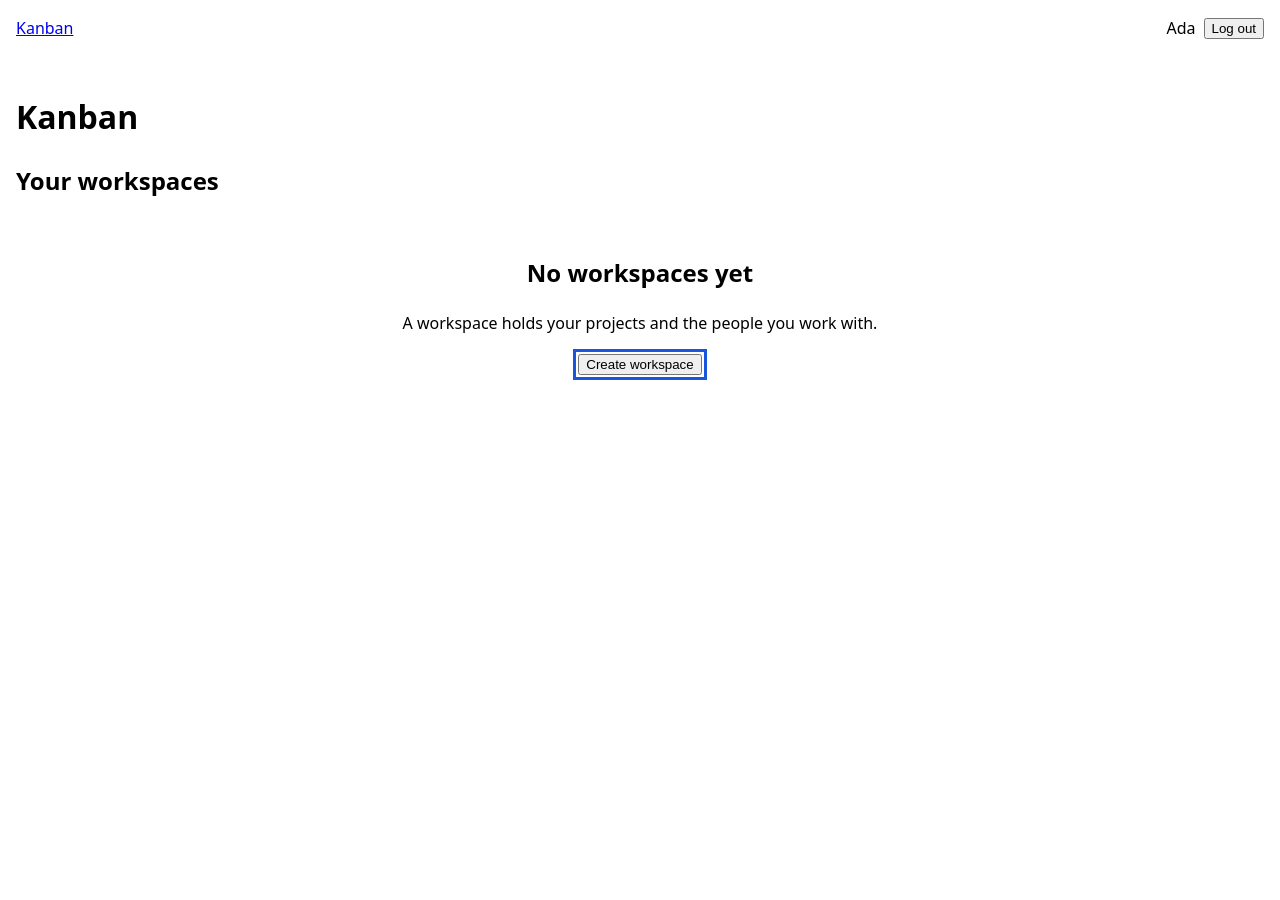
Test: home page › opens the dialog with Enter, shows a validation error and closes with Escape
Press Enter
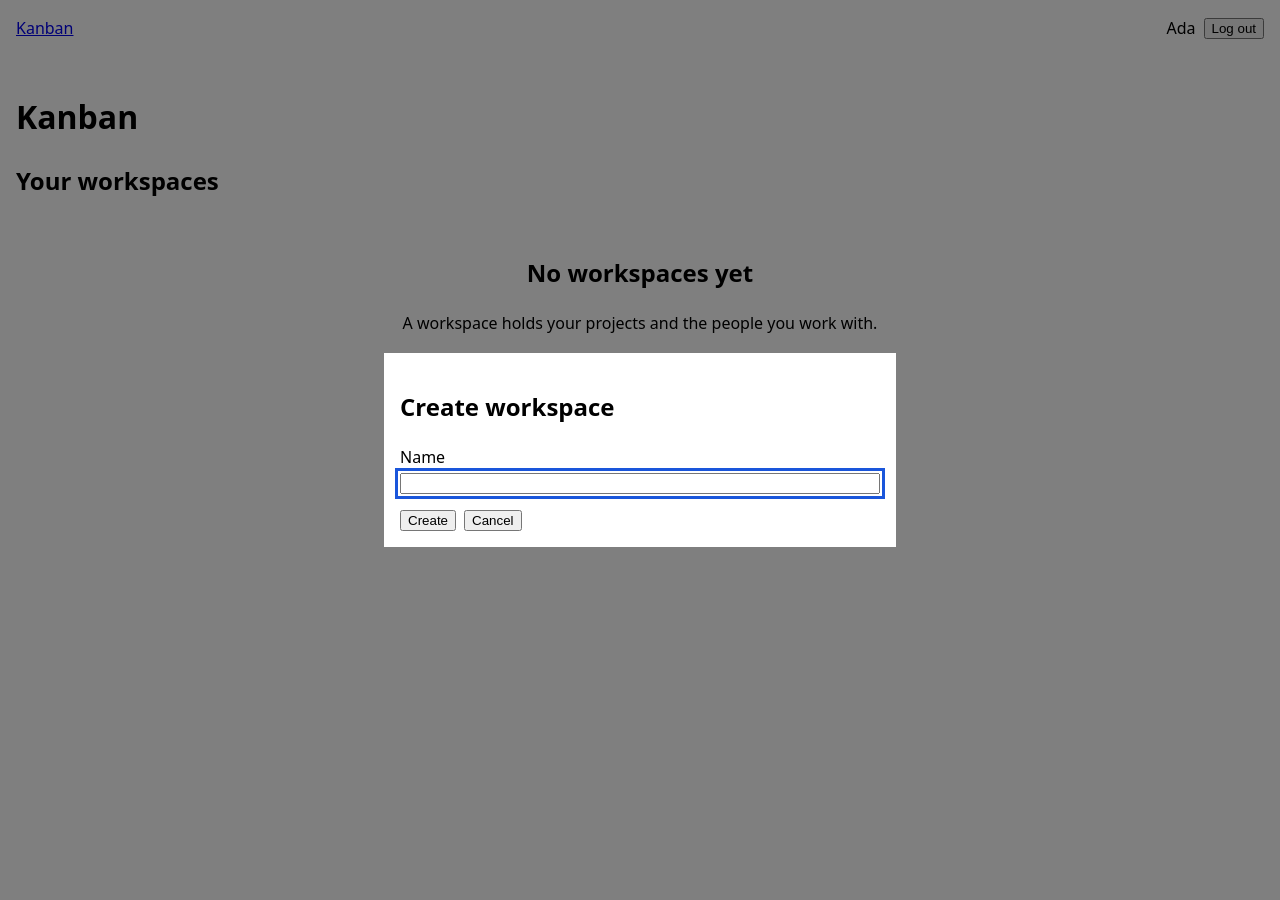
Click the button "Create". click: (428, 520)
box: [400,510,456,531]
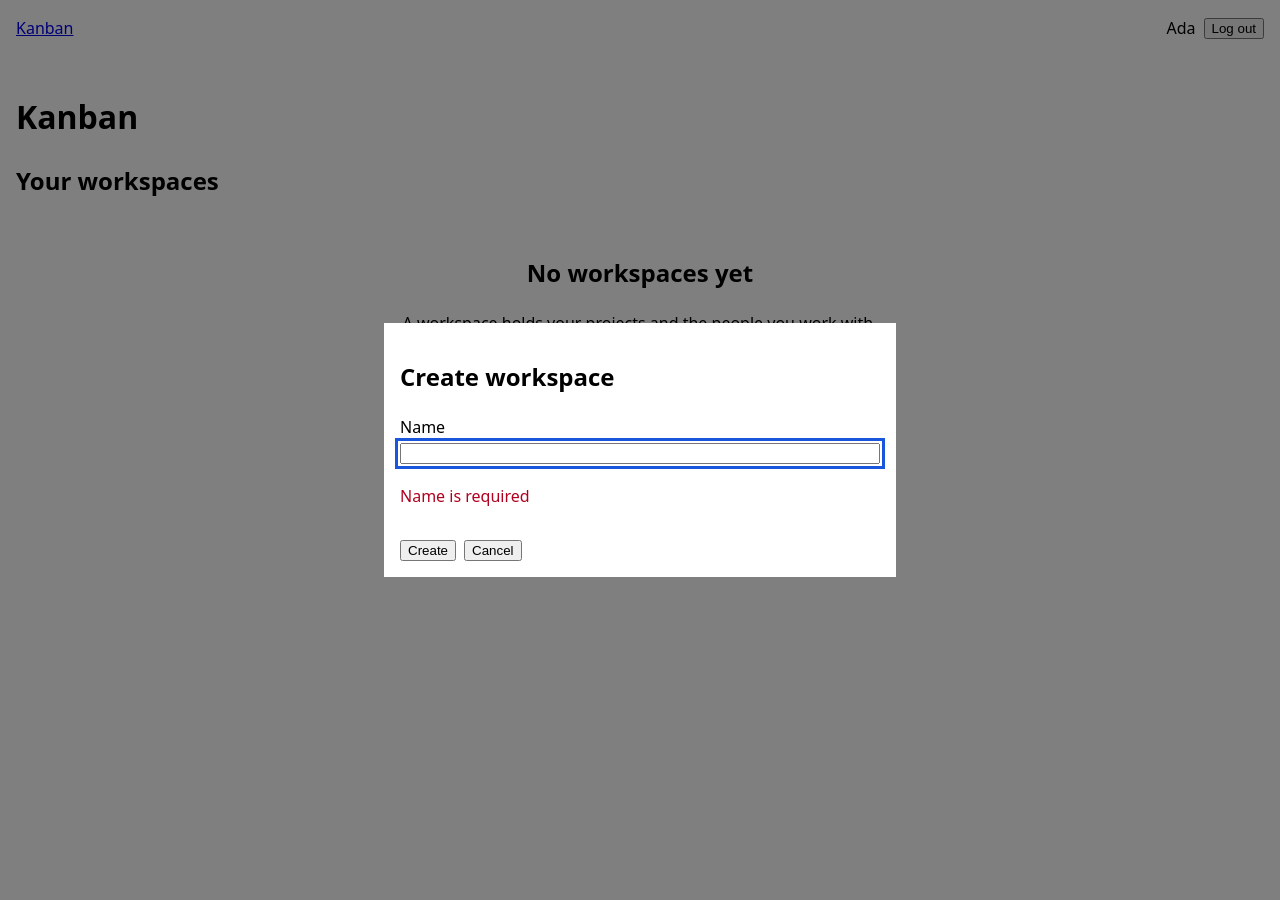
Expected: the text "Name is required" is shown, [400,485,530,507]
Press Escape
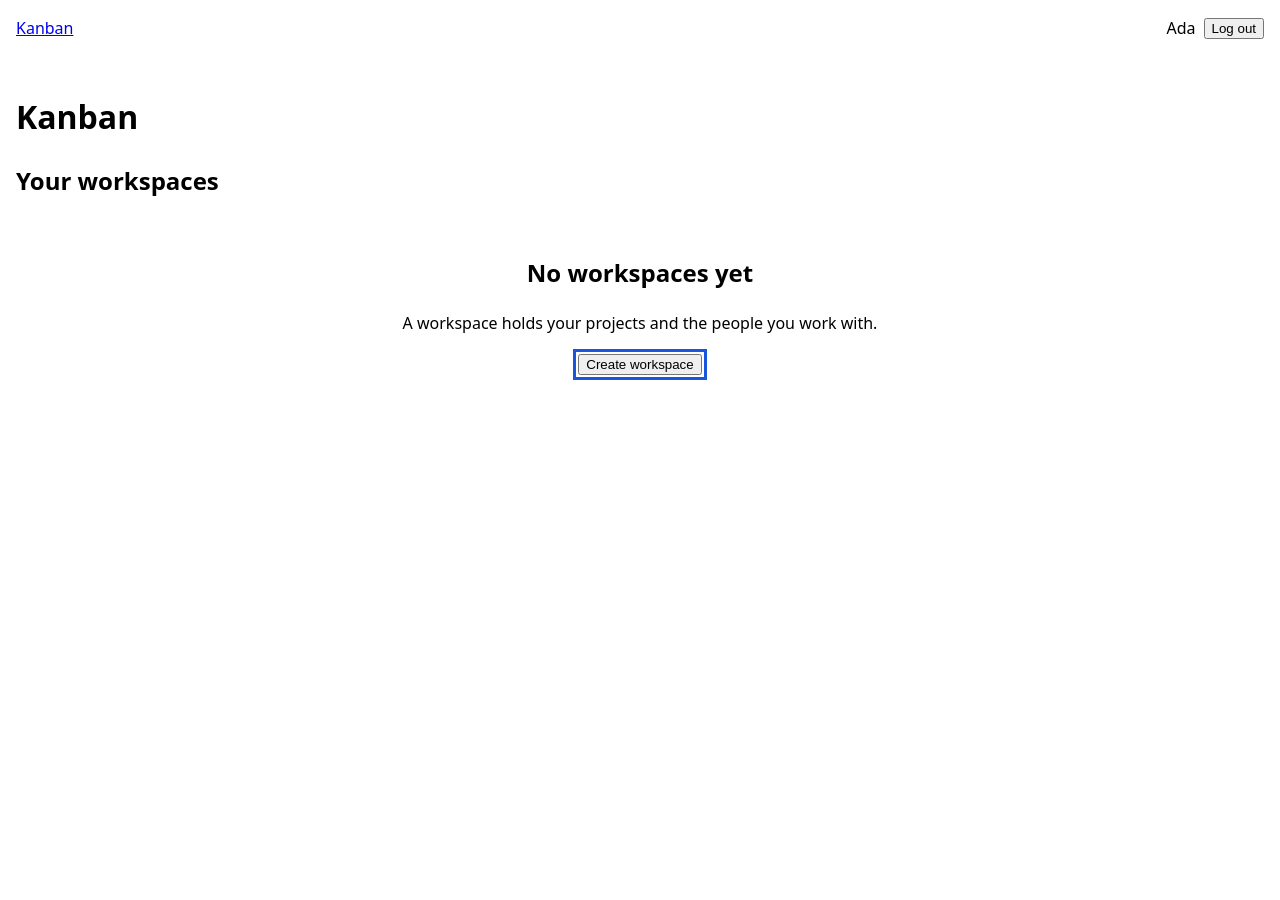
Expected: the dialog is gone
